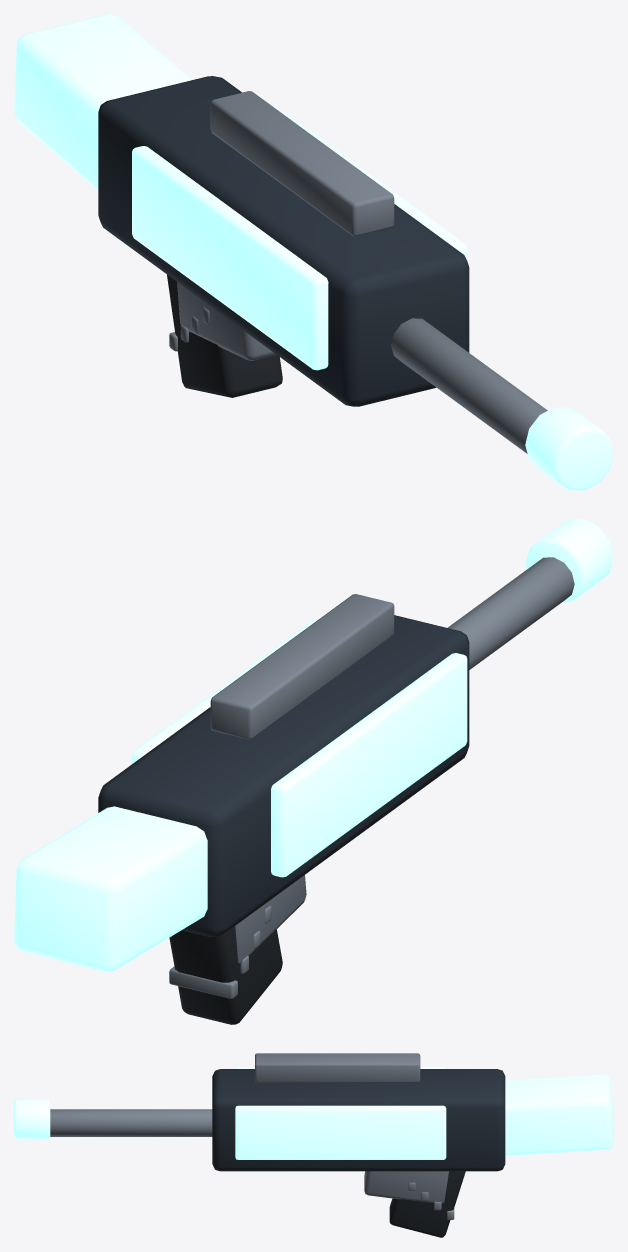
The model's file is Technician_TCN4SMG.fbx.
3 renders of one model, top to bottom at view 1: azimuth 30°, elevation 25°; view 2: azimuth 150°, elevation 25°; view 3: azimuth 270°, elevation 25°, orthographic. The views are drawn at different scales.
Visible parts, largest first — view 1: Receiver.009, SideArmorLeft.004, Stock.004, TopRail.009, Barrel_00.004, MuzzleBrake.004, Grip.009, CompactMagazine.001, SideArmorRight.004; view 2: Receiver.009, Stock.004, SideArmorLeft.004, TopRail.009, Grip.009, Barrel_00.004, MuzzleBrake.004, CompactMagazine.001, SideArmorRight.004, GripRib_03.009; view 3: Receiver.009, SideArmorRight.004, Stock.004, TopRail.009, Barrel_00.004, CompactMagazine.001, Grip.009, MuzzleBrake.004.
Boxes of the visible parts, x1,y1,x2,y2 form: Receiver.009: (98, 76, 469, 406); SideArmorLeft.004: (132, 146, 328, 370); Stock.004: (14, 14, 192, 190); TopRail.009: (210, 91, 394, 236); Barrel_00.004: (391, 318, 547, 453); MuzzleBrake.004: (525, 407, 613, 490); Grip.009: (167, 274, 282, 397); CompactMagazine.001: (177, 282, 276, 360); SideArmorRight.004: (281, 112, 467, 260); Receiver.009: (98, 615, 469, 936); Stock.004: (14, 806, 207, 971); SideArmorLeft.004: (271, 653, 467, 877); TopRail.009: (210, 594, 394, 739); Grip.009: (169, 926, 282, 1024); Barrel_00.004: (447, 557, 574, 669); MuzzleBrake.004: (525, 519, 613, 602); CompactMagazine.001: (235, 875, 306, 963); SideArmorRight.004: (132, 619, 318, 763); GripRib_03.009: (169, 966, 237, 998); Receiver.009: (212, 1069, 505, 1171); SideArmorRight.004: (235, 1105, 446, 1159); Stock.004: (505, 1074, 613, 1155); TopRail.009: (255, 1053, 420, 1082); Barrel_00.004: (50, 1109, 212, 1136); CompactMagazine.001: (364, 1171, 448, 1203); Grip.009: (389, 1171, 465, 1237); MuzzleBrake.004: (14, 1099, 50, 1139).
Size of the model in its own units: 96 by 179 by 563.
